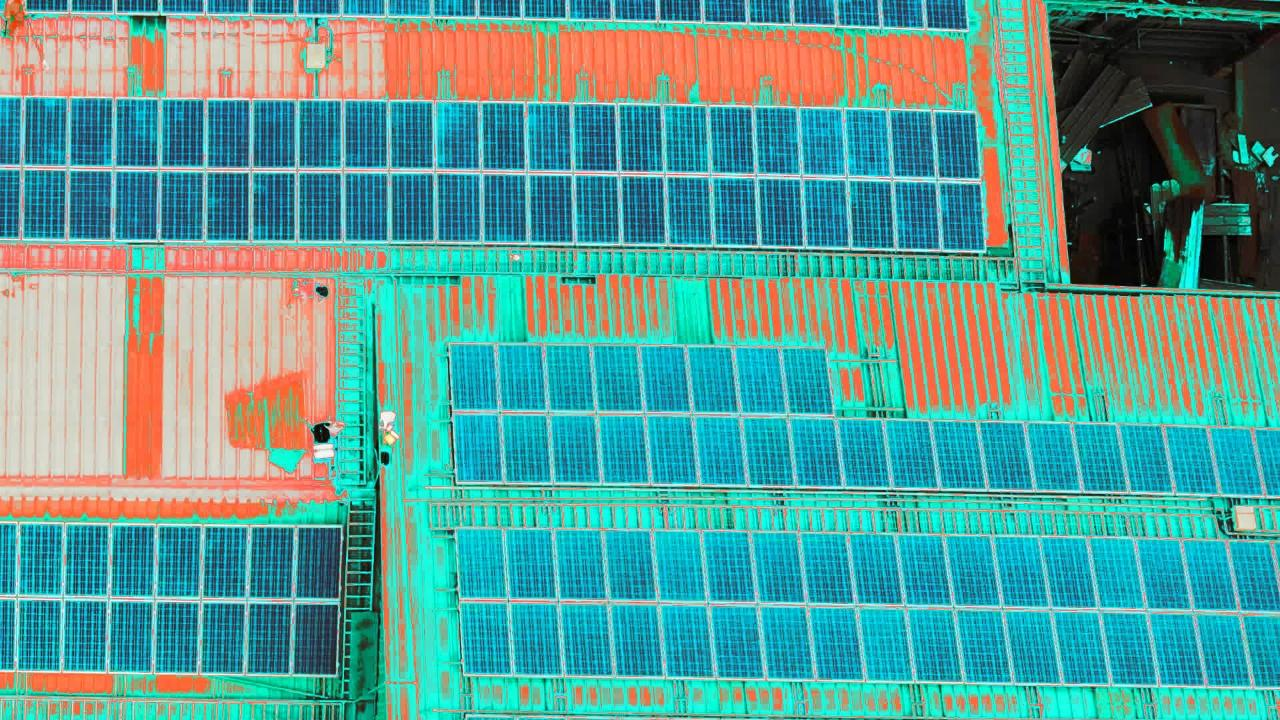clean: (1, 95, 983, 255), (456, 527, 1280, 685), (447, 343, 837, 494), (2, 521, 334, 678), (834, 415, 1280, 496)
